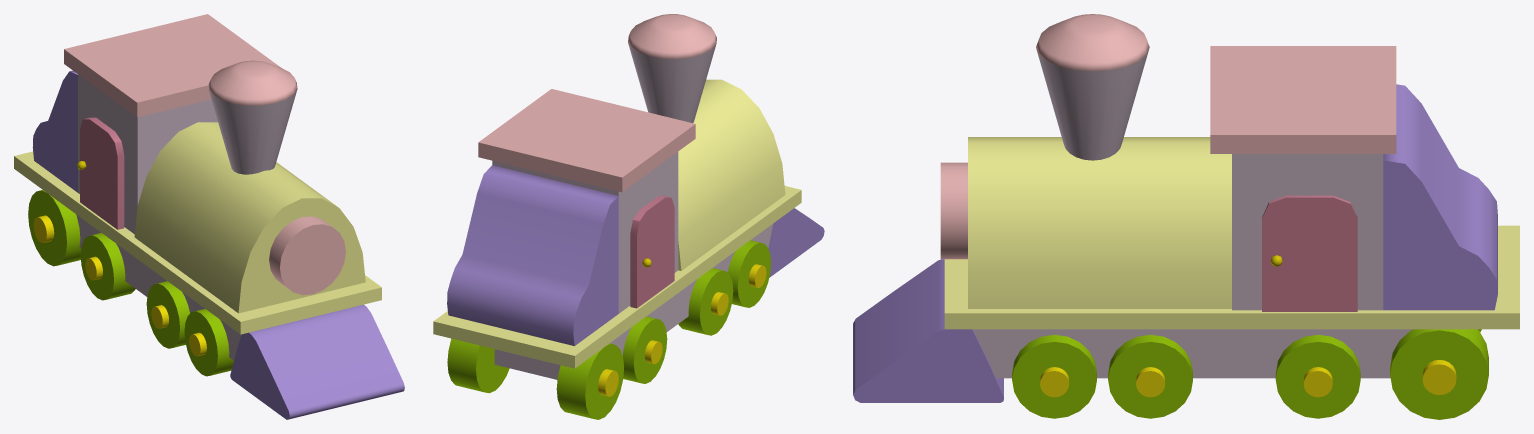
Rendered from StartTrain.fbx.
The picture shows the model from 3 angles, left to right: view 1: azimuth 30°, elevation 25°; view 2: azimuth 150°, elevation 25°; view 3: azimuth 270°, elevation 25°; orthographic projection. The views are drawn at different scales.
Visible parts, largest first — view 1: StartTrain; view 2: StartTrain; view 3: StartTrain.
Boxes of the visible parts, x1,y1,x2,y2 form: StartTrain: (14, 14, 404, 419); StartTrain: (433, 14, 824, 419); StartTrain: (853, 14, 1519, 419).
Bounding box in the file's own units: 0.4927 × 0.8503 × 1.46.
